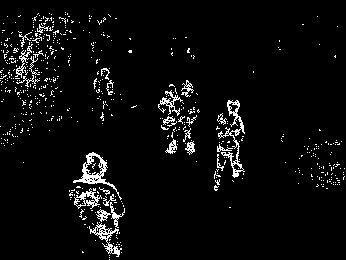person: (72, 151, 126, 260), (215, 97, 249, 191), (161, 83, 183, 169), (182, 79, 204, 161), (92, 66, 116, 125)
